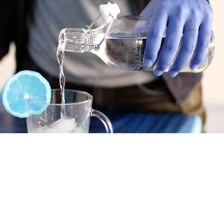bottle: (55, 12, 218, 77)
glass: (24, 83, 120, 133)
